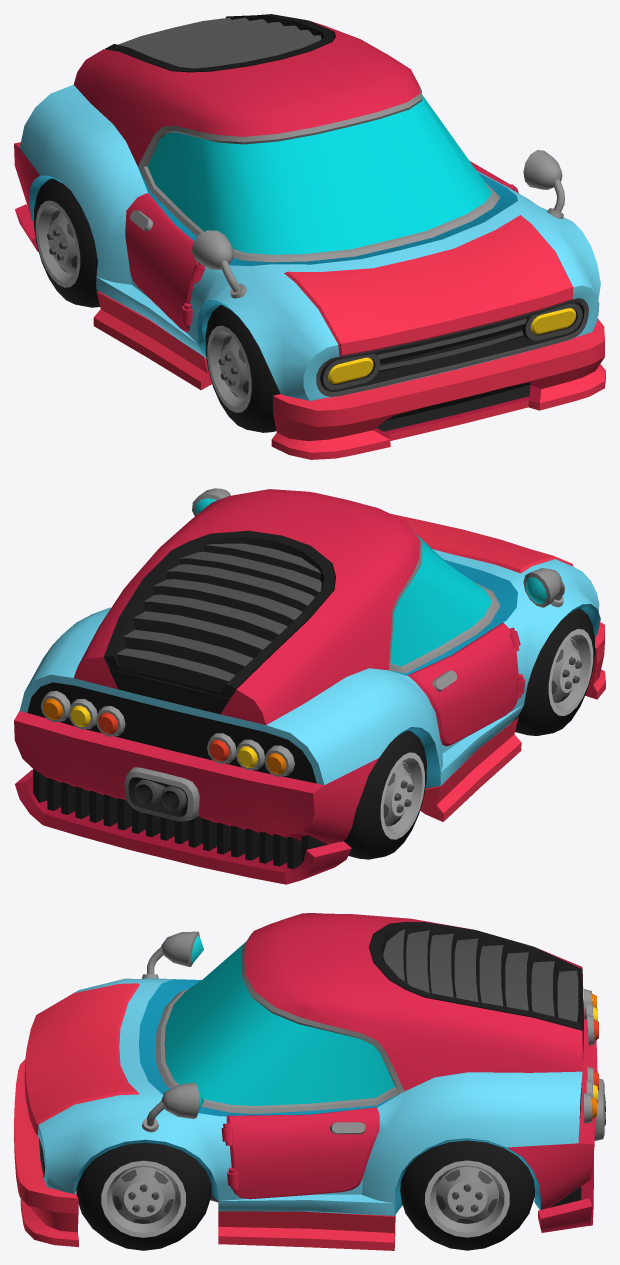
The model's file is VEH17-A.fbx.
The picture shows the model from 3 angles, top to bottom: view 1: azimuth 30°, elevation 25°; view 2: azimuth 150°, elevation 25°; view 3: azimuth 270°, elevation 25°; orthographic projection. The views are drawn at different scales.
Parts seen in each view (by area): view 1: VEH17_A, V17A_Wheel_FR, V17A_Wheel_BR; view 2: VEH17_A, V17A_Wheel_BR, V17A_Wheel_FR; view 3: VEH17_A, V17A_Wheel_BL, V17A_Wheel_FL.
Boxes of the visible parts, x1,y1,x2,y2 form: VEH17_A: [14, 14, 605, 459]; V17A_Wheel_FR: [205, 305, 280, 432]; V17A_Wheel_BR: [34, 178, 99, 307]; VEH17_A: [14, 488, 605, 884]; V17A_Wheel_BR: [343, 730, 426, 859]; V17A_Wheel_FR: [511, 608, 594, 735]; VEH17_A: [14, 913, 605, 1250]; V17A_Wheel_BL: [400, 1140, 534, 1250]; V17A_Wheel_FL: [76, 1142, 211, 1250].
Size of the model in its own units: 260 by 172 by 391.
Materials: 1 (1 with a texture image).
